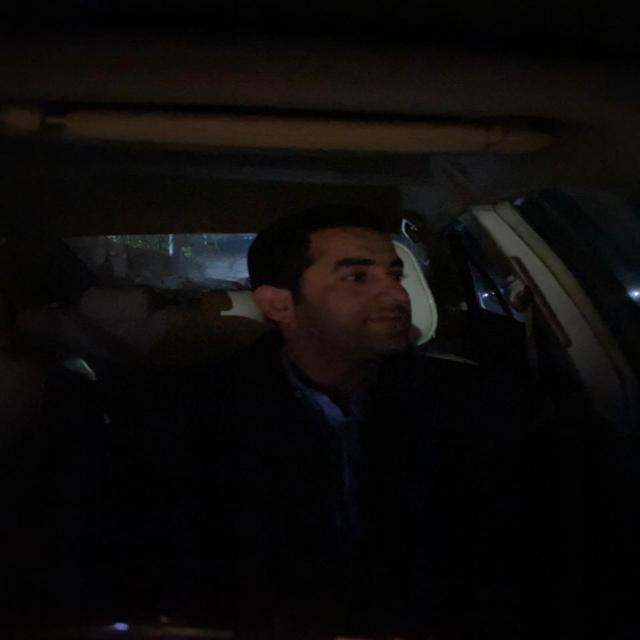LeftRight: (234, 192, 452, 382)
